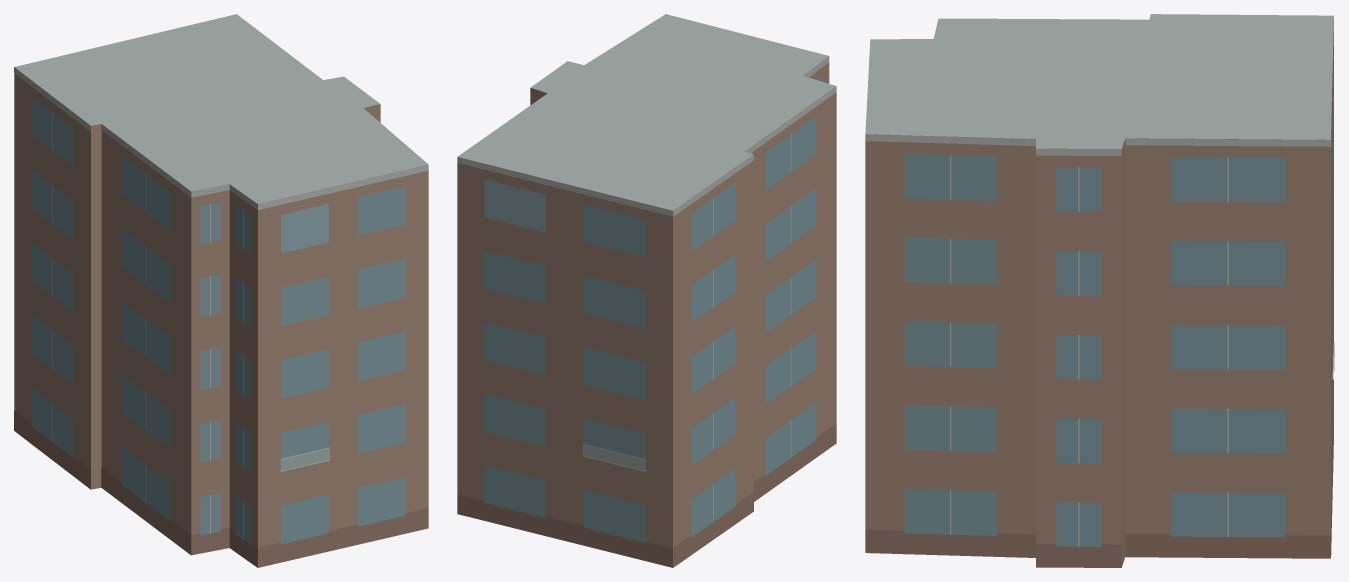
Rendered from survey-upis-32931849.glb.
The picture shows the model from 3 angles, left to right: view 1: azimuth 30°, elevation 25°; view 2: azimuth 150°, elevation 25°; view 3: azimuth 270°, elevation 25°; orthographic projection. The views are drawn at different scales.
Parts seen in each view (by area): view 1: survey-upis-32931849.tmp; view 2: survey-upis-32931849.tmp; view 3: survey-upis-32931849.tmp.
Boxes of the visible parts, bbox=[...] form: survey-upis-32931849.tmp: bbox=[14, 14, 428, 567]; survey-upis-32931849.tmp: bbox=[457, 14, 836, 567]; survey-upis-32931849.tmp: bbox=[865, 14, 1334, 567].
Size of the model in its own units: 10.07 by 14.55 by 14.78.
